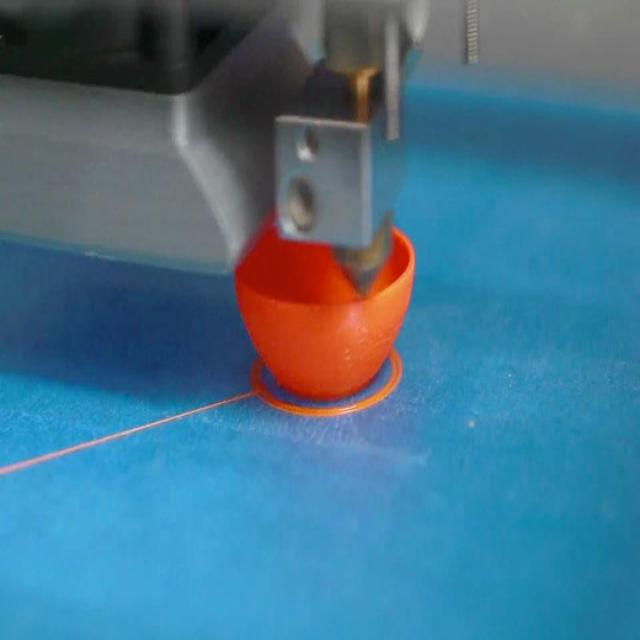Without deffect: (208, 204, 468, 450)
